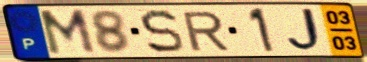1: (247, 6, 277, 55)
8: (89, 9, 133, 56)
J: (285, 7, 328, 54)
M: (36, 7, 99, 57)
R: (179, 9, 232, 52)
S: (137, 8, 186, 55)
